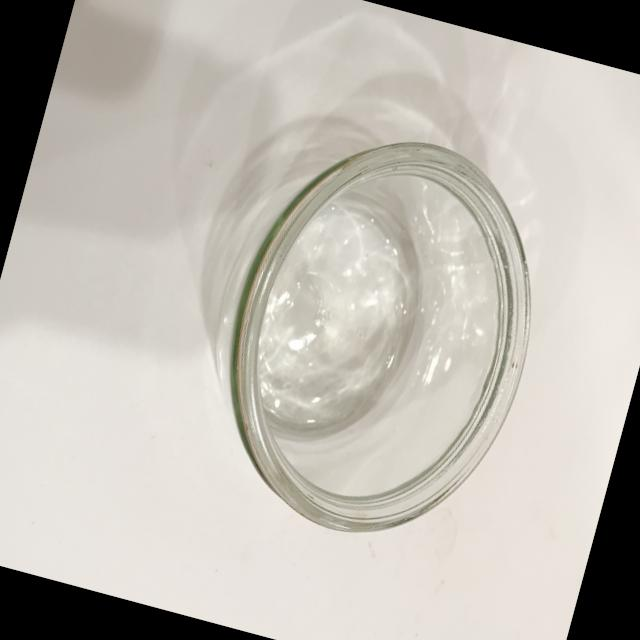Glass: (134, 82, 584, 578)
